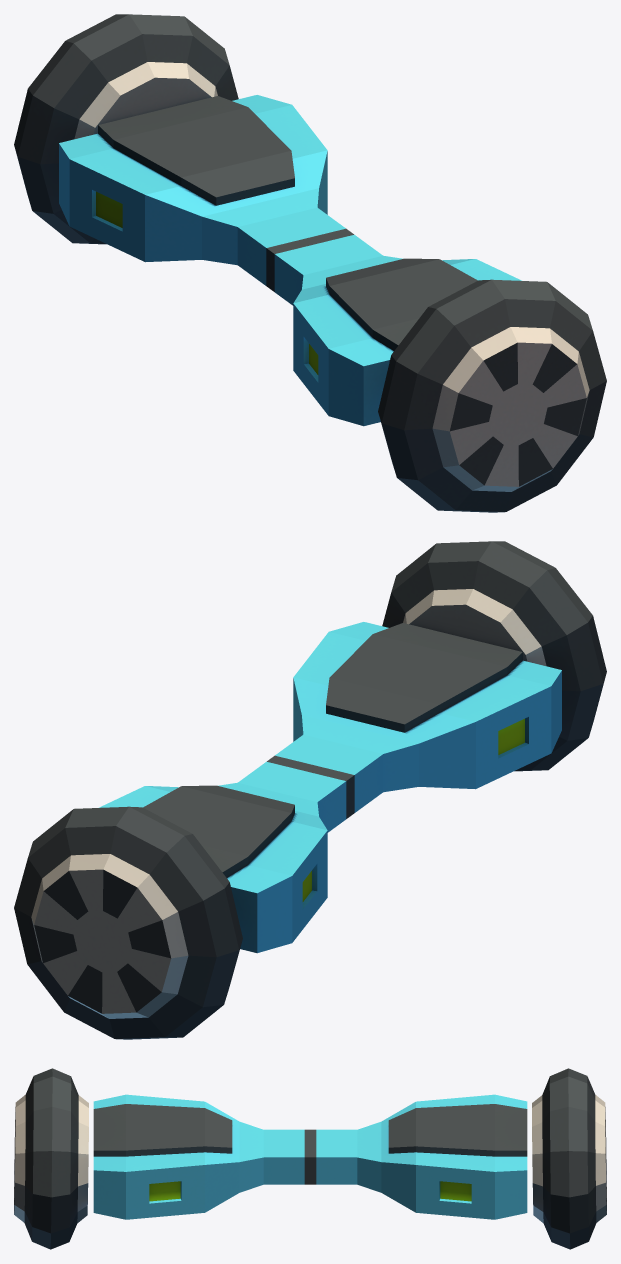
Rendered from PUSHILIN_Hoverboard.obj.
The picture shows the model from 3 angles, top to bottom: view 1: azimuth 30°, elevation 25°; view 2: azimuth 150°, elevation 25°; view 3: azimuth 270°, elevation 25°; orthographic projection. The views are drawn at different scales.
Visible parts, largest first — view 1: PUSHILIN_Hoverboard_Torus.003; view 2: PUSHILIN_Hoverboard_Torus.003; view 3: PUSHILIN_Hoverboard_Torus.003.
Boxes of the visible parts, x1=… form: PUSHILIN_Hoverboard_Torus.003: x1=14, y1=14, x2=606, y2=512; PUSHILIN_Hoverboard_Torus.003: x1=14, y1=541, x2=606, y2=1039; PUSHILIN_Hoverboard_Torus.003: x1=14, y1=1068, x2=606, y2=1249.
Size of the model in its own units: 0.7768 by 0.7728 by 2.52.
Materials: 1 (1 with a texture image).
